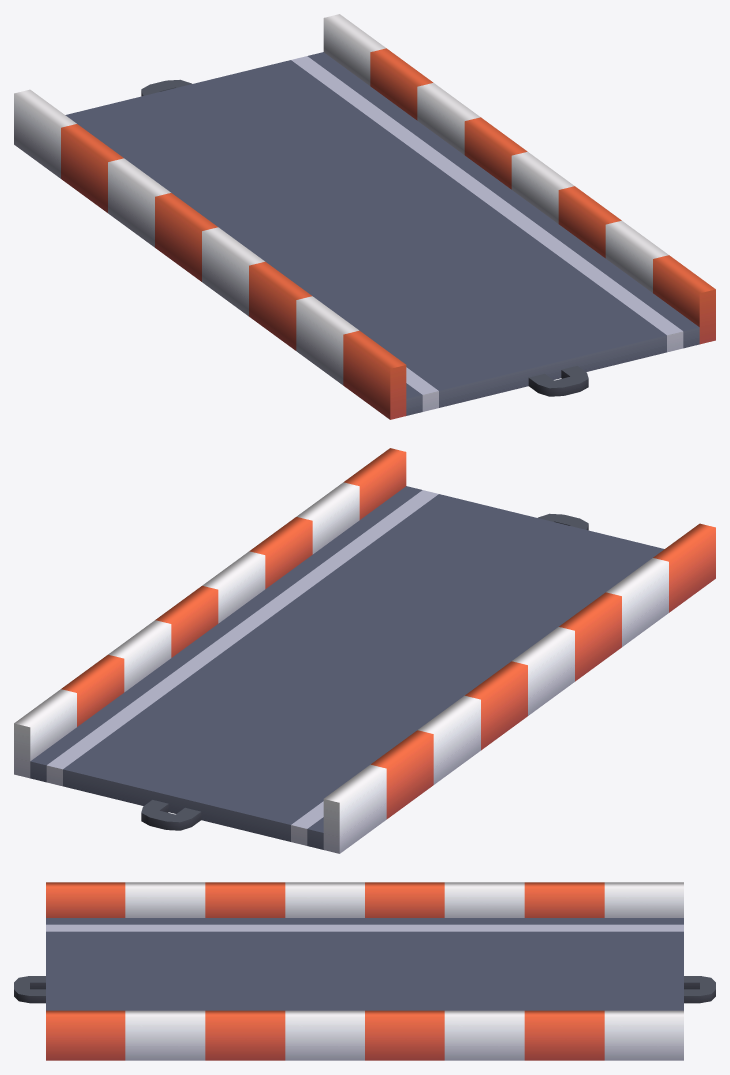
File: track-road-wide-straight.glb
3 views of the same model, one above another, from view 1: azimuth 30°, elevation 25°; view 2: azimuth 150°, elevation 25°; view 3: azimuth 270°, elevation 25° (orthographic). The views are drawn at different scales.
Visible parts, largest first — view 1: track-road-wide-straight; view 2: track-road-wide-straight; view 3: track-road-wide-straight.
Boxes of the visible parts, bbox=[...] form: track-road-wide-straight: bbox=[14, 14, 715, 419]; track-road-wide-straight: bbox=[14, 448, 715, 853]; track-road-wide-straight: bbox=[14, 882, 715, 1060].
Bounding box in the file's own units: 2 × 0.2997 × 4.4.
Materials: 1 (1 with a texture image).
